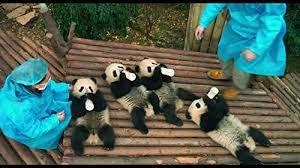bear: (186, 93, 272, 165), (135, 57, 201, 126), (102, 62, 164, 134), (71, 77, 116, 154)
